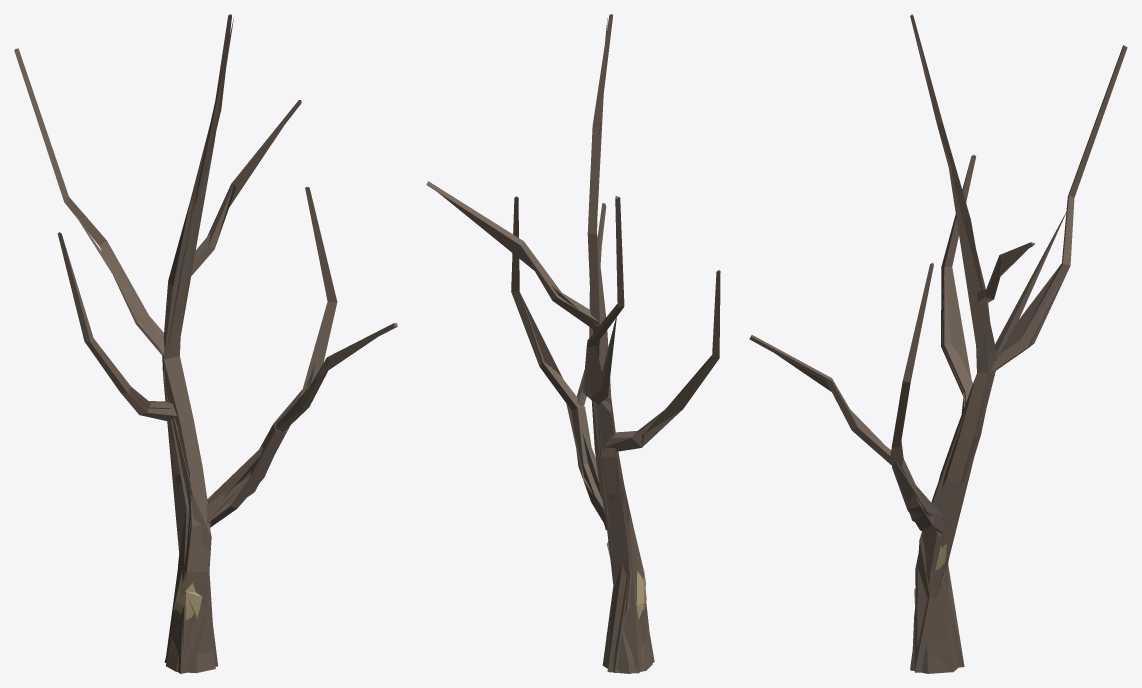
File: Pram-Tree2.fbx
3 views of the same model, side by side, from view 1: azimuth 30°, elevation 25°; view 2: azimuth 150°, elevation 25°; view 3: azimuth 270°, elevation 25° (orthographic). The views are drawn at different scales.
Parts seen in each view (by area): view 1: Tree_1_1_LOD0.001; view 2: Tree_1_1_LOD0.001; view 3: Tree_1_1_LOD0.001.
Part boxes in pixels (x1=…): Tree_1_1_LOD0.001: x1=14, y1=14, x2=397, y2=673; Tree_1_1_LOD0.001: x1=426, y1=14, x2=720, y2=673; Tree_1_1_LOD0.001: x1=749, y1=14, x2=1127, y2=673.
Size of what is drawn, in the model's own units: 349 by 795 by 411.
